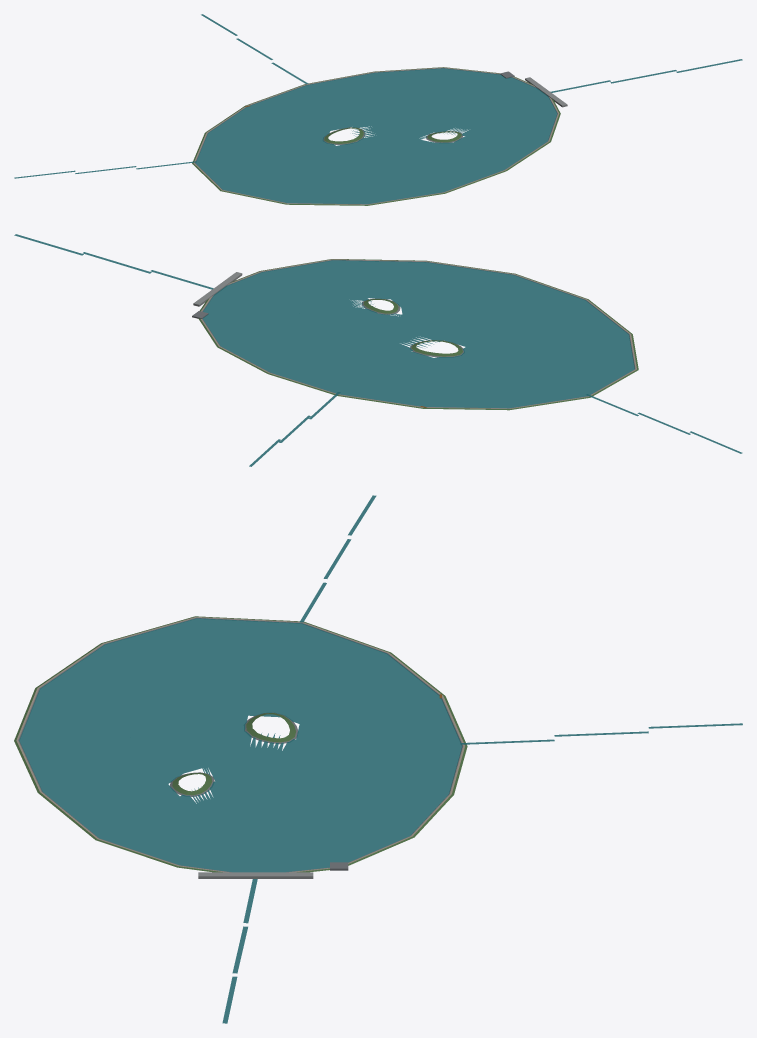
File: water_ho_tan_thanh_lam_ha.glb
3 renders of one model, top to bottom at view 1: azimuth 30°, elevation 25°; view 2: azimuth 150°, elevation 25°; view 3: azimuth 270°, elevation 25°, orthographic. The views are drawn at different scales.
Visible parts, largest first — view 1: water_surface_water_ho_tan_thanh_lam_ha, shoreline_terrain_transition_verge_water_ho_tan_thanh_lam_ha, lakeside_promenade_walkway_water_ho_tan_thanh_lam_ha, embankment_stone_coping_water_ho_tan_thanh_lam_ha, headwater_terraces_stream_tan_thanh_east_spillway_to_da_dang; view 2: water_surface_water_ho_tan_thanh_lam_ha, shoreline_terrain_transition_verge_water_ho_tan_thanh_lam_ha, lakeside_promenade_walkway_water_ho_tan_thanh_lam_ha, embankment_stone_coping_water_ho_tan_thanh_lam_ha, headwater_terraces_stream_tan_thanh_east_spillway_to_da_dang; view 3: water_surface_water_ho_tan_thanh_lam_ha, shoreline_terrain_transition_verge_water_ho_tan_thanh_lam_ha, lakeside_promenade_walkway_water_ho_tan_thanh_lam_ha, embankment_stone_coping_water_ho_tan_thanh_lam_ha.
Part boxes in pixels (x1,y1,x2,y2): water_surface_water_ho_tan_thanh_lam_ha: (195,68,557,204); shoreline_terrain_transition_verge_water_ho_tan_thanh_lam_ha: (192,67,560,205); lakeside_promenade_walkway_water_ho_tan_thanh_lam_ha: (193,67,559,204); embankment_stone_coping_water_ho_tan_thanh_lam_ha: (195,68,557,204); headwater_terraces_stream_tan_thanh_east_spillway_to_da_dang: (550,59,742,92); water_surface_water_ho_tan_thanh_lam_ha: (202,260,634,408); shoreline_terrain_transition_verge_water_ho_tan_thanh_lam_ha: (198,259,638,410); lakeside_promenade_walkway_water_ho_tan_thanh_lam_ha: (200,259,636,408); embankment_stone_coping_water_ho_tan_thanh_lam_ha: (202,260,635,408); headwater_terraces_stream_tan_thanh_east_spillway_to_da_dang: (14,234,213,289); water_surface_water_ho_tan_thanh_lam_ha: (19,618,462,872); shoreline_terrain_transition_verge_water_ho_tan_thanh_lam_ha: (14,616,467,877); lakeside_promenade_walkway_water_ho_tan_thanh_lam_ha: (16,617,464,872); embankment_stone_coping_water_ho_tan_thanh_lam_ha: (18,617,463,872).
Size of the model in its own units: 2887 by 52 by 1743.
